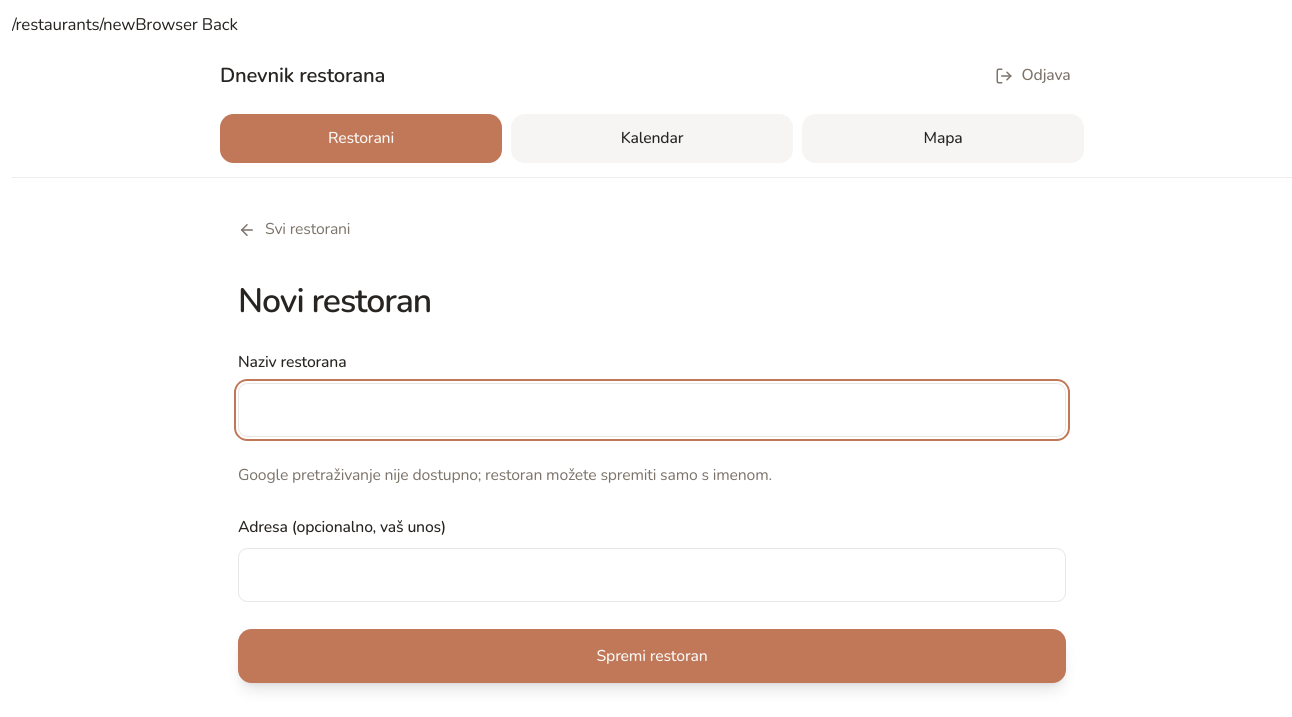
it: Restaurant V1 routes › prevents a same-frame double submit while saving a restaurant
This screenshot has width=1292, height=717.
Later steps or results of the test are not shown.
Type "Bistro" into the field labelled "Naziv restorana" at (652, 410), box [238,383,1066,437]
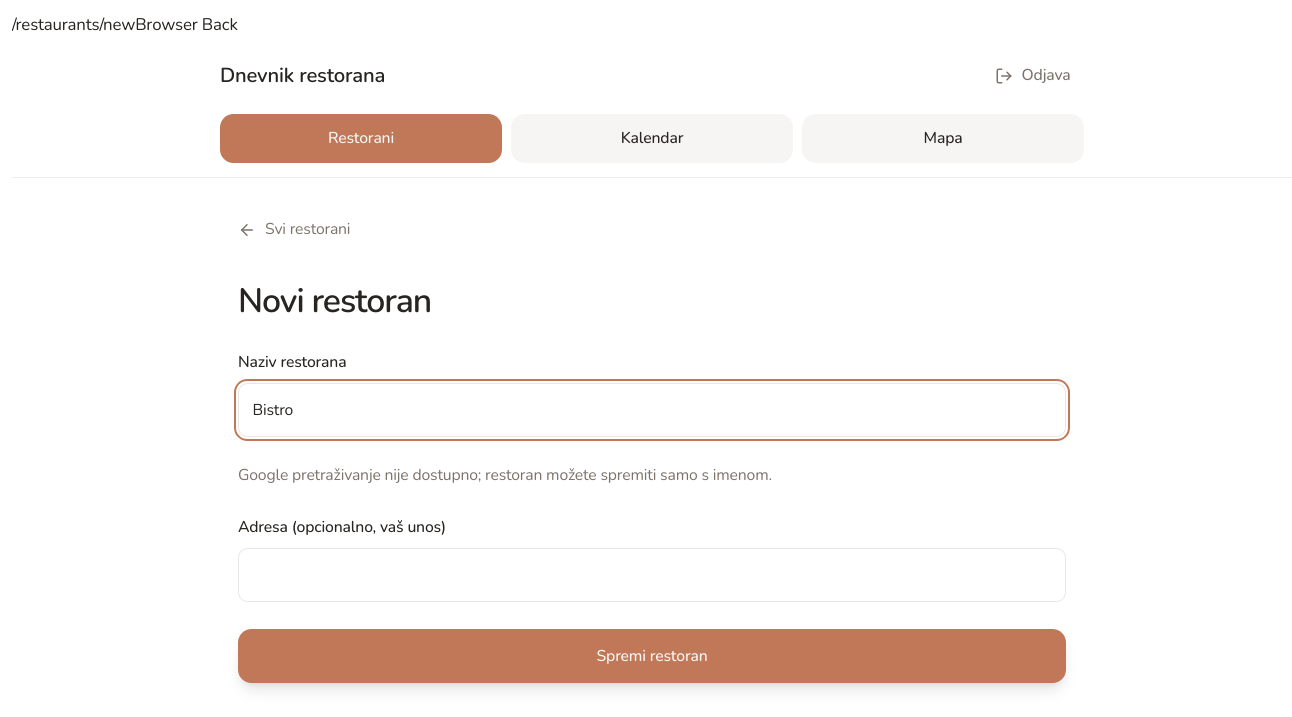
Submit the form named "Spremi restoran", box [238,349,1066,683]
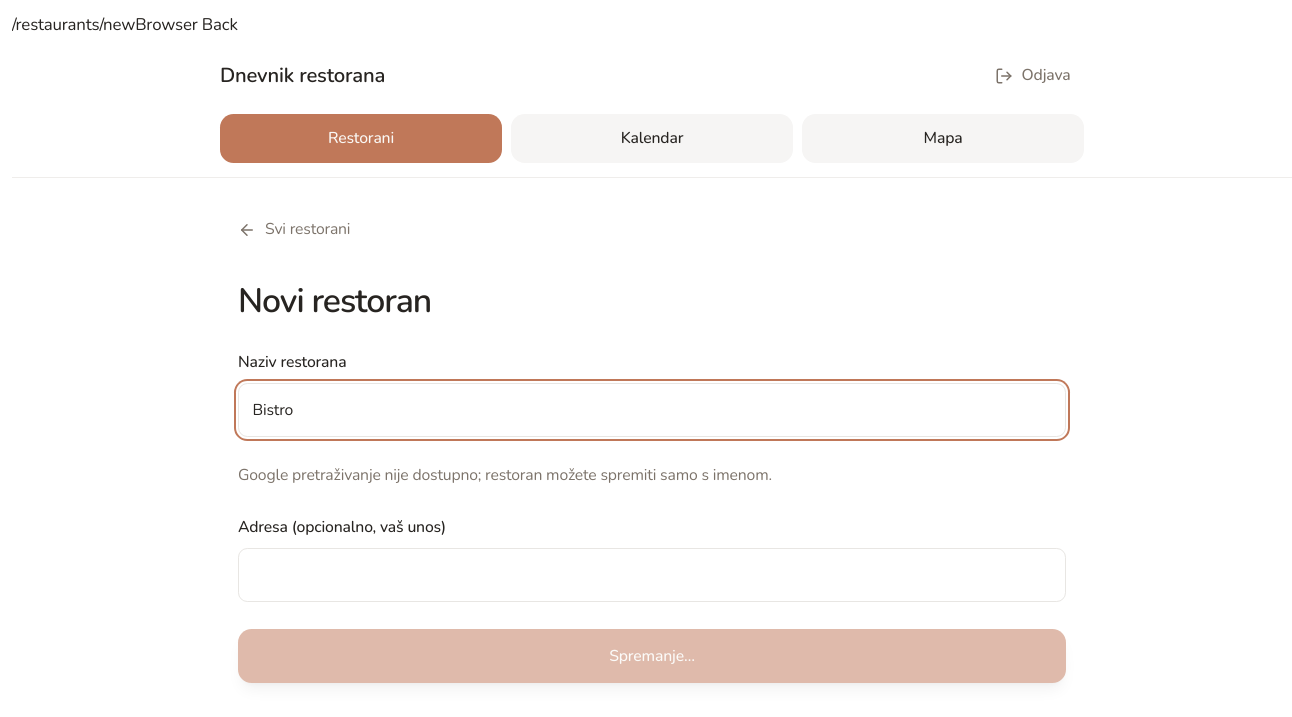
Submit the form named "Spremi restoran", box [238,349,1066,683]
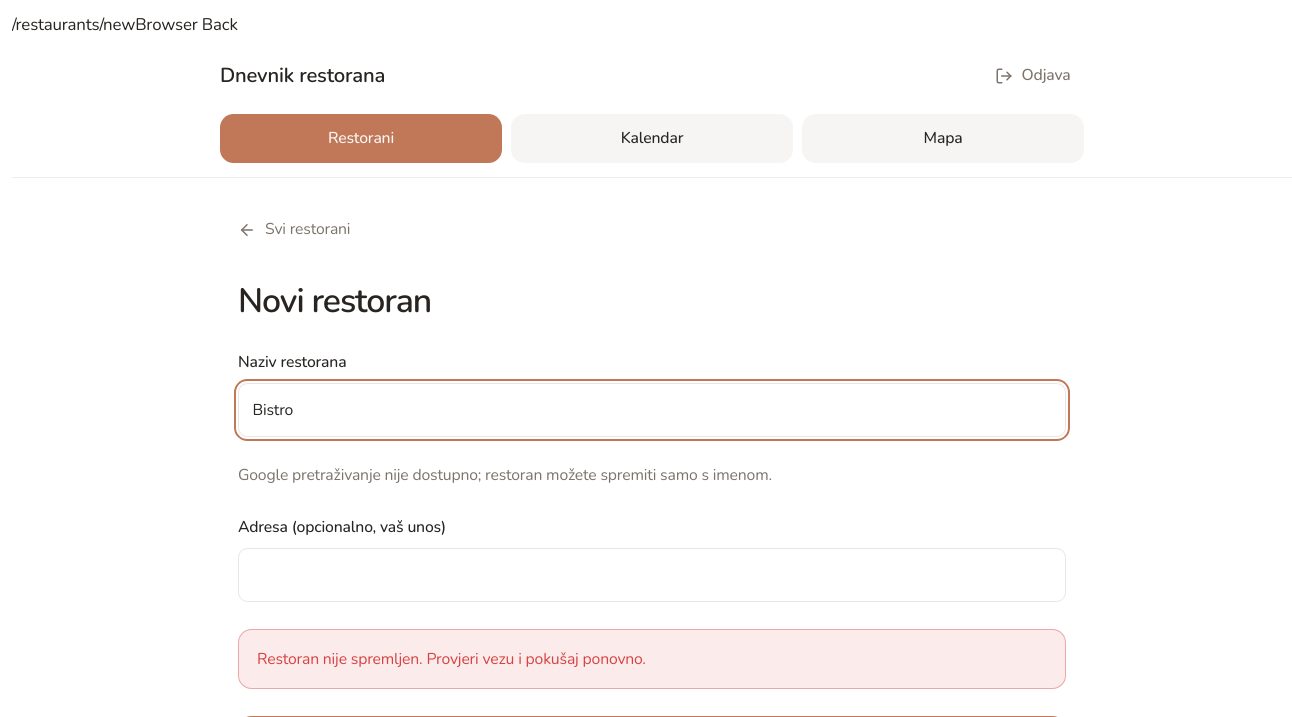
Now the message shows "Restoran nije spremljen", box [257,648,646,670]
